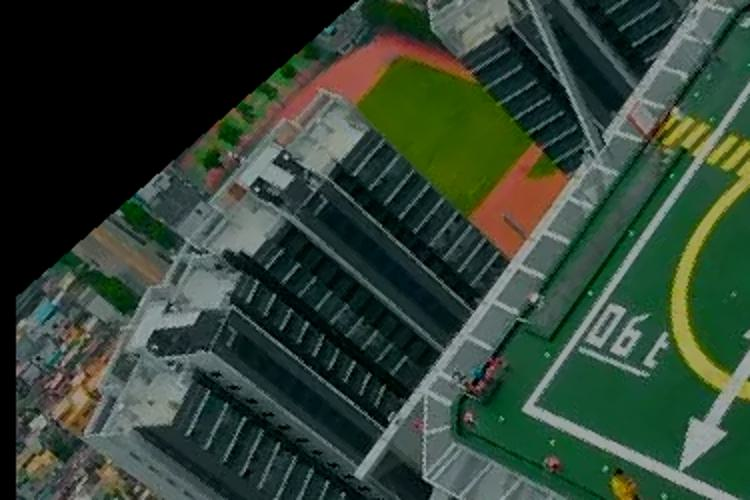Apron: (661, 181, 750, 376)
